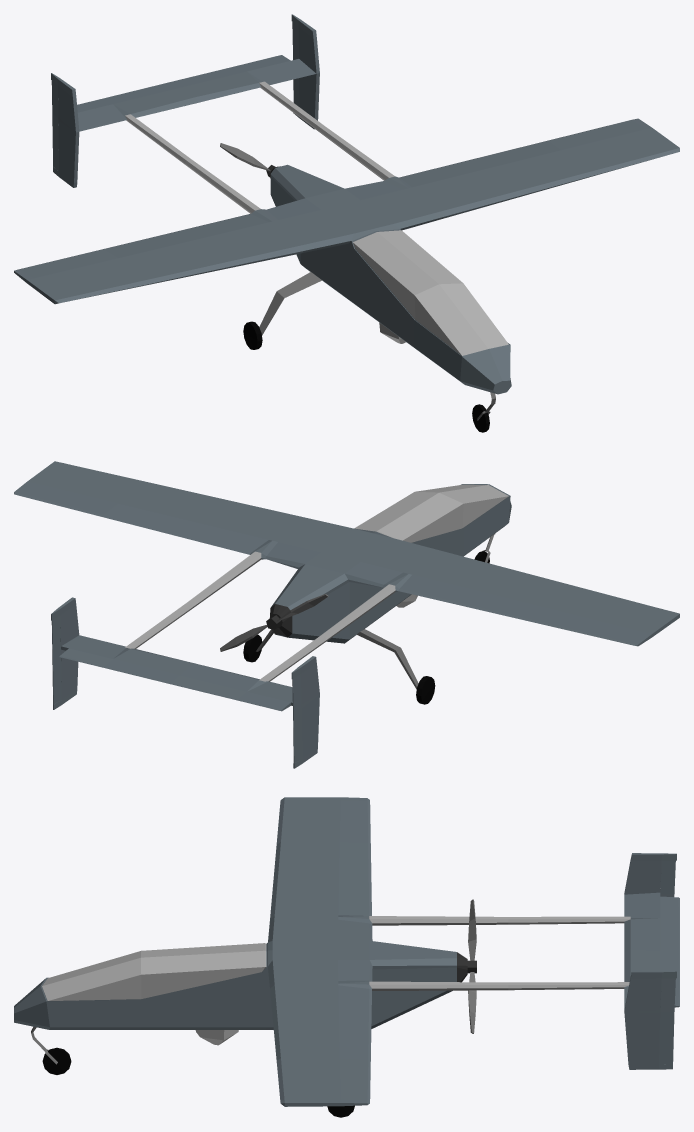
The picture shows the model from 3 angles, top to bottom: view 1: azimuth 30°, elevation 25°; view 2: azimuth 150°, elevation 25°; view 3: azimuth 270°, elevation 25°; orthographic projection.
Parts seen in each view (by area): view 1: Cube.030, Cube.037, Cube.031, Cube.039, Cube.032; view 2: Cube.030, Cube.037, Cube.031, Cube.032, Cube.039, Circle.003, Cube.038, Cube.033; view 3: Cube.030, Cube.031, Cube.037, Cube.033, Cube.032, Circle.003, Cube.036, Cube.039, Cube.038.
Boxes of the visible parts, <box> form: Cube.030: <box>14,14,679,420</box>; Cube.037: <box>547,120,645,149</box>; Cube.031: <box>20,249,118,278</box>; Cube.039: <box>171,55,290,87</box>; Cube.032: <box>77,82,179,112</box>; Cube.030: <box>14,461,679,768</box>; Cube.037: <box>19,483,117,516</box>; Cube.031: <box>547,611,645,644</box>; Cube.032: <box>170,675,290,711</box>; Cube.039: <box>59,648,179,683</box>; Circle.003: <box>220,594,328,651</box>; Cube.038: <box>292,674,302,763</box>; Cube.033: <box>51,616,61,704</box>; Cube.030: <box>14,797,676,1106</box>; Cube.031: <box>339,800,370,843</box>; Cube.037: <box>339,1058,370,1101</box>; Cube.033: <box>659,978,675,1064</box>; Cube.032: <box>660,896,679,951</box>; Circle.003: <box>467,899,476,1033</box>; Cube.036: <box>42,1047,71,1074</box>; Cube.039: <box>660,951,679,1007</box>; Cube.038: <box>660,860,675,896</box>.
Bounding box in the file's own units: 422 × 104 × 389.
